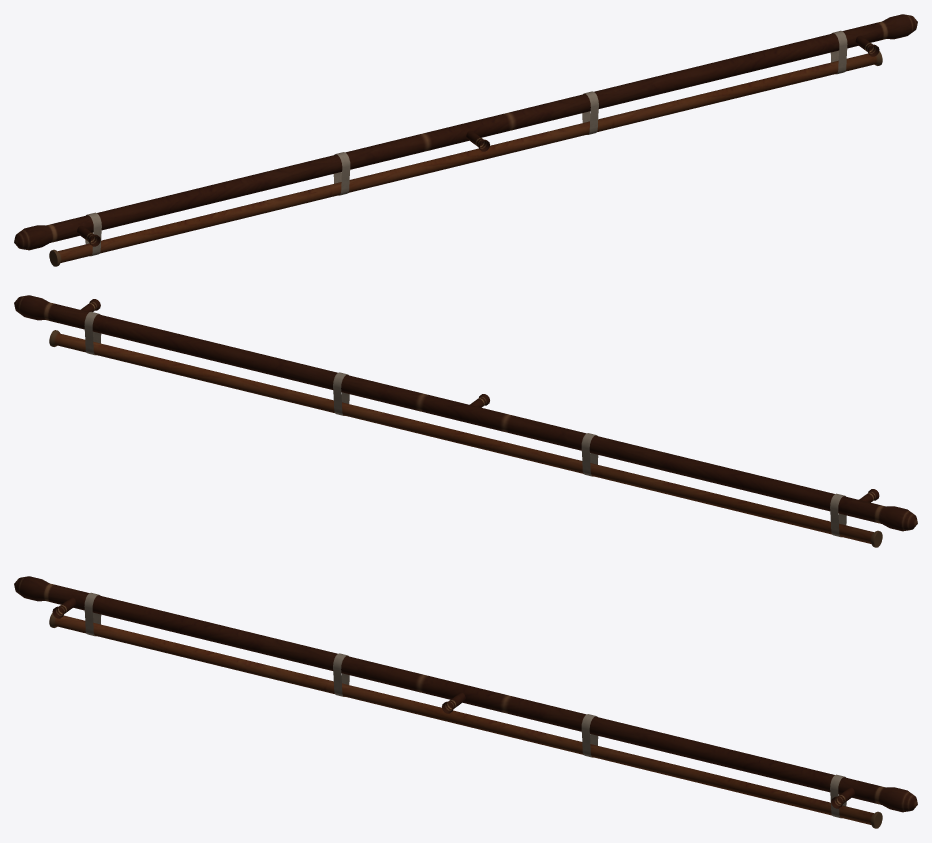
The model's file is Cornice_Model.fbx.
3 renders of one model, top to bottom at view 1: azimuth 30°, elevation 25°; view 2: azimuth 150°, elevation 25°; view 3: azimuth 330°, elevation 25°, orthographic.
Visible parts, largest first — view 1: Cornice; view 2: Cornice; view 3: Cornice.
Boxes of the visible parts, box(x1,y1,x2,y2) form: Cornice: box(14, 14, 917, 266); Cornice: box(14, 295, 917, 547); Cornice: box(14, 576, 917, 828).
Bounding box in the file's own units: 225 × 10.38 × 10.56.
